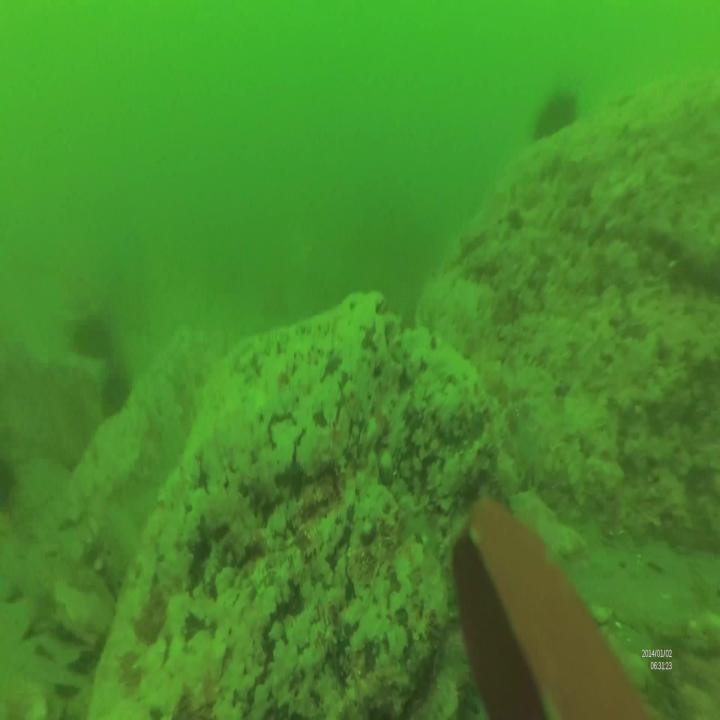echinus: (533, 87, 583, 149), (72, 310, 112, 362), (101, 369, 132, 418)
